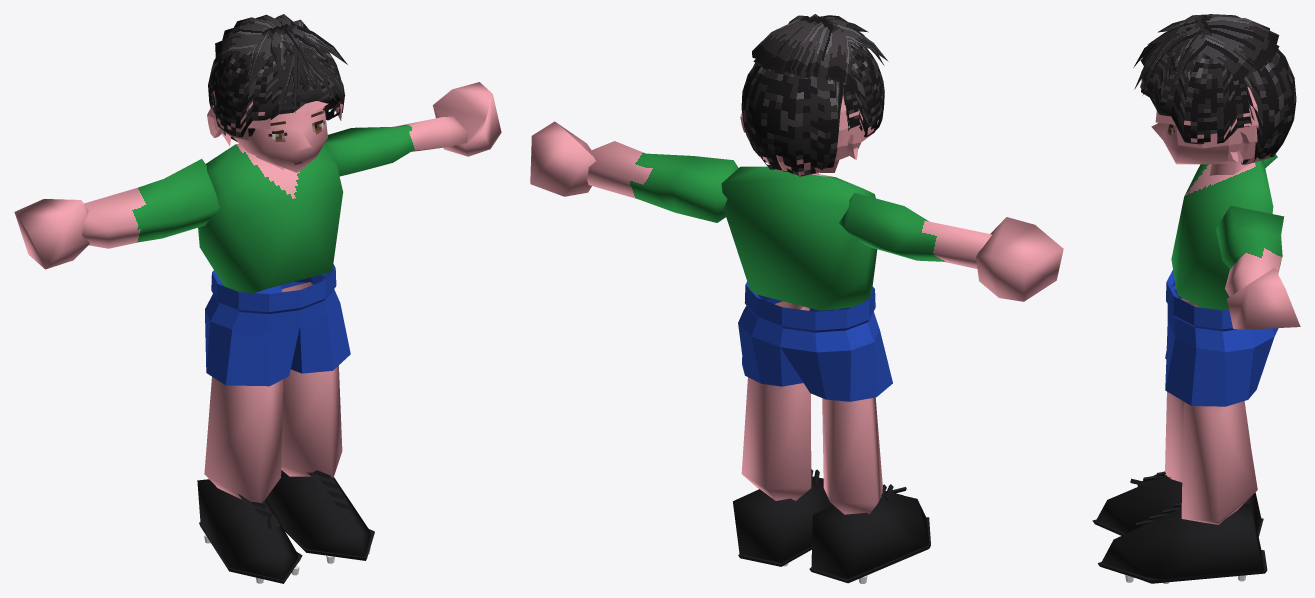
Rendered from 02-jogador-degrade_preto.glb.
3 views of the same model, side by side, from view 1: azimuth 30°, elevation 25°; view 2: azimuth 150°, elevation 25°; view 3: azimuth 270°, elevation 25° (orthographic). The views are drawn at different scales.
Parts seen in each view (by area): view 1: Camisa_Tronco, Bermuda, Cabelo, Perna.R, Braco.R, Perna.L, Chuteira.R, Chuteira.L, Braco.L, Mao.R, Cabeca, Mao.L (+2 smaller); view 2: Cabelo, Camisa_Tronco, Bermuda, Perna.L, Braco.L, Chuteira.R, Perna.R, Braco.R, Mao.R, Chuteira.L, Mao.L, Couro_Cabeludo (+1 smaller); view 3: Cabelo, Bermuda, Chuteira.L, Camisa_Tronco, Perna.L, Braco.L, Mao.L, Chuteira.R, Couro_Cabeludo, Perna.R, Cabeca, Chuteira_Sola.L (+3 smaller).
Boxes of the visible parts, left/top/right/bottom form: Camisa_Tronco: left=198, top=143, right=343, bottom=292; Bermuda: left=205, top=264, right=350, bottom=386; Cabelo: left=208, top=14, right=347, bottom=141; Perna.R: left=204, top=377, right=283, bottom=503; Braco.R: left=82, top=159, right=220, bottom=248; Perna.L: left=281, top=282, right=342, bottom=478; Chuteira.R: left=197, top=479, right=300, bottom=579; Chuteira.L: left=266, top=470, right=370, bottom=557; Braco.L: left=324, top=116, right=468, bottom=176; Mao.R: left=14, top=199, right=89, bottom=269; Cabeca: left=233, top=106, right=327, bottom=172; Mao.L: left=432, top=82, right=501, bottom=156; Cabelo: left=741, top=14, right=888, bottom=176; Camisa_Tronco: left=721, top=166, right=877, bottom=310; Bermuda: left=738, top=281, right=892, bottom=401; Perna.L: left=741, top=301, right=811, bottom=500; Braco.L: left=587, top=141, right=738, bottom=222; Chuteira.R: left=811, top=491, right=928, bottom=578; Perna.R: left=822, top=397, right=882, bottom=514; Braco.R: left=839, top=192, right=991, bottom=268; Mao.R: left=976, top=217, right=1063, bottom=301; Chuteira.L: left=733, top=476, right=833, bottom=562; Mao.L: left=530, top=121, right=595, bottom=196; Couro_Cabeludo: left=762, top=94, right=878, bottom=176; Cabelo: left=1133, top=14, right=1296, bottom=164; Bermuda: left=1165, top=270, right=1278, bottom=406; Chuteira.L: left=1101, top=504, right=1263, bottom=583; Camisa_Tronco: left=1171, top=160, right=1273, bottom=310; Perna.L: left=1181, top=401, right=1257, bottom=524; Braco.L: left=1215, top=205, right=1284, bottom=296; Mao.L: left=1227, top=267, right=1300, bottom=329; Chuteira.R: left=1096, top=475, right=1261, bottom=533; Couro_Cabeludo: left=1140, top=83, right=1271, bottom=165; Perna.R: left=1165, top=298, right=1250, bottom=482; Cabeca: left=1151, top=123, right=1242, bottom=164; Chuteira_Sola.L: left=1098, top=550, right=1267, bottom=583.
Size of the model in its own units: 0.4523 by 0.4609 by 0.1617.
Materials: 3 (3 with a texture image).
